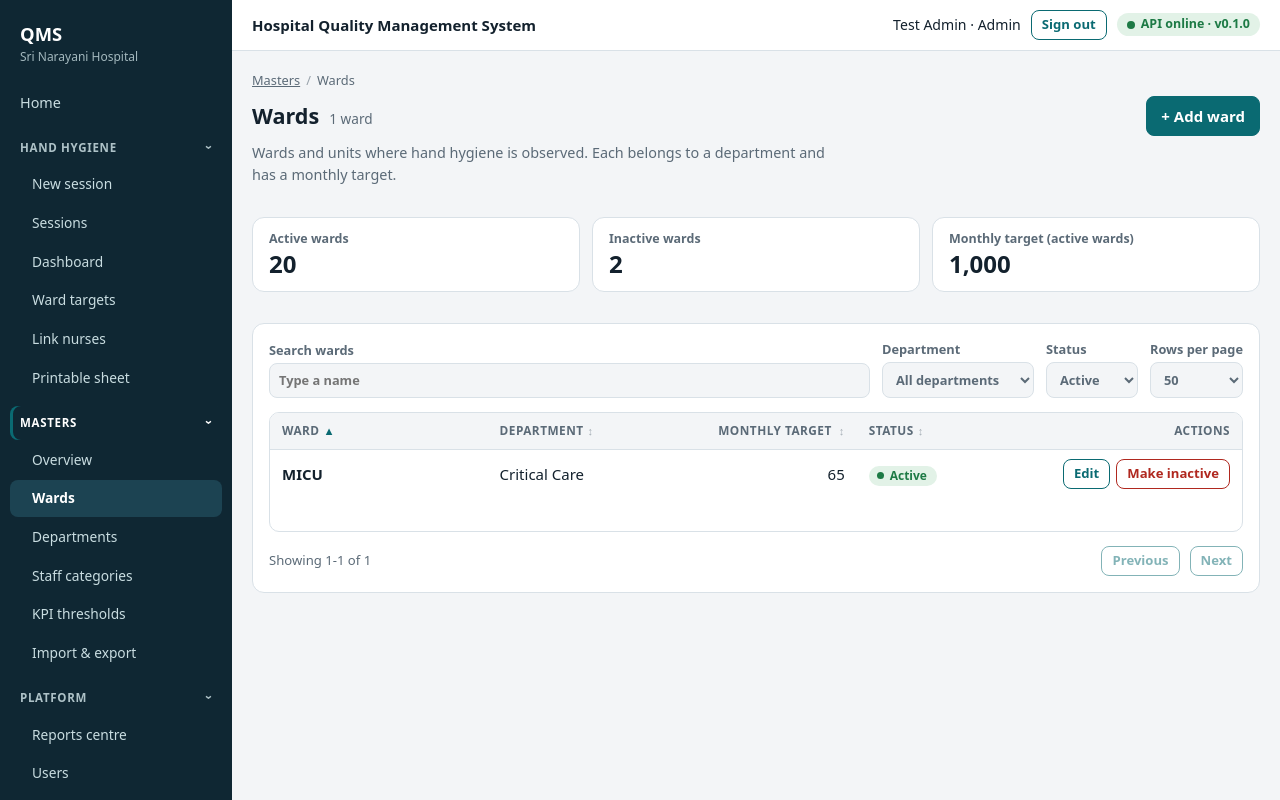
Test case: Wards page › adds a ward from the drawer with the CSRF header, closes it and shows a toast
Expected: the text "MICU" is shown, [282, 464, 323, 484]
Click the button "+ Add ward".
click(1203, 116)  # box [1146, 96, 1260, 136]
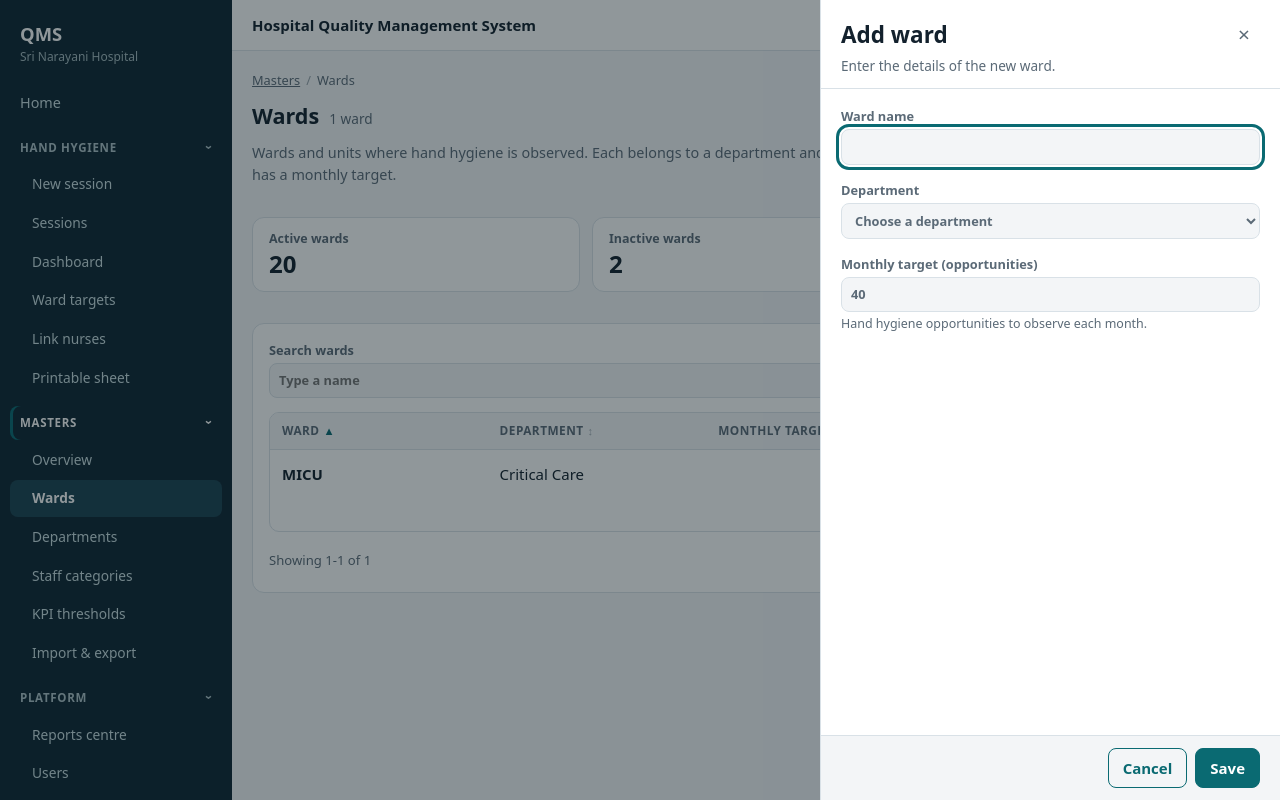
Type "ICU 2" into the field labelled "Ward name".
click(1050, 147); type("ICU 2")  # box [841, 129, 1260, 164]
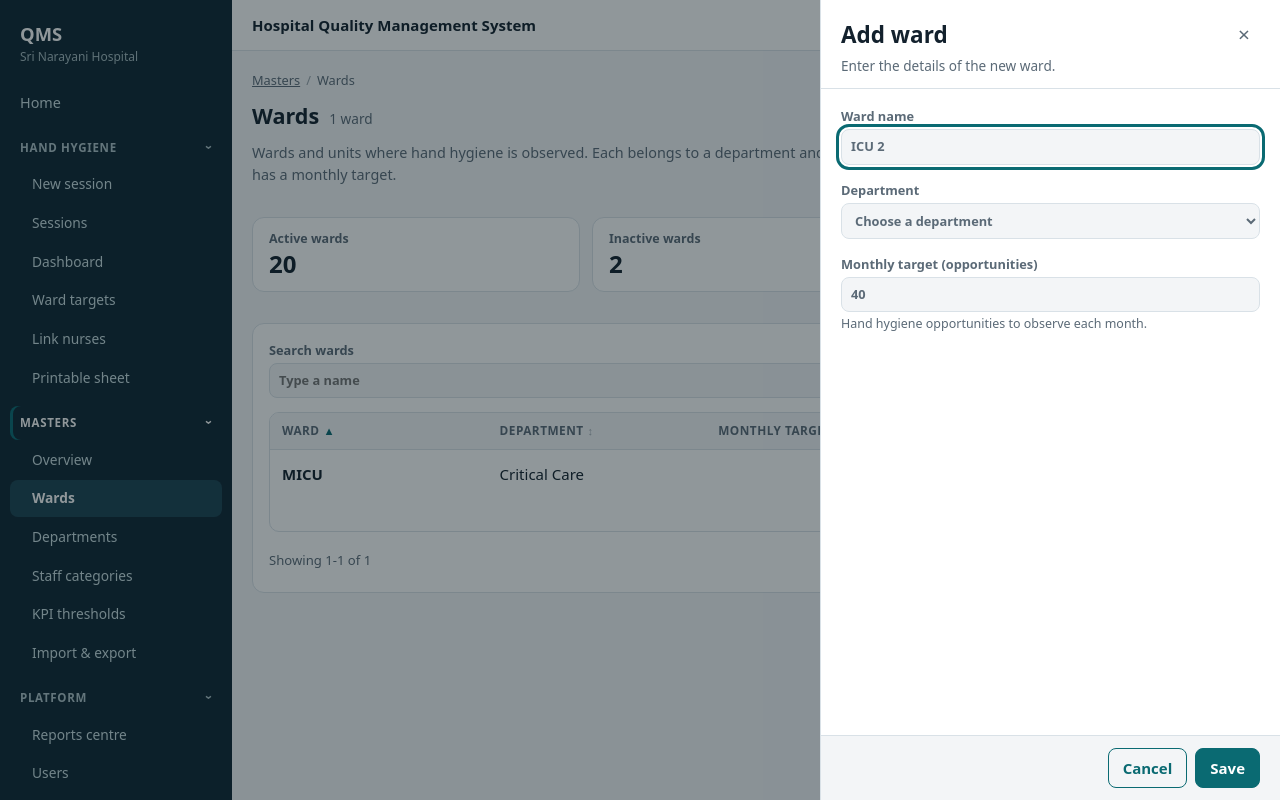
Select "Critical Care" in the dropdown labelled "Department" at coordinates (1050, 221), box [841, 203, 1260, 239]
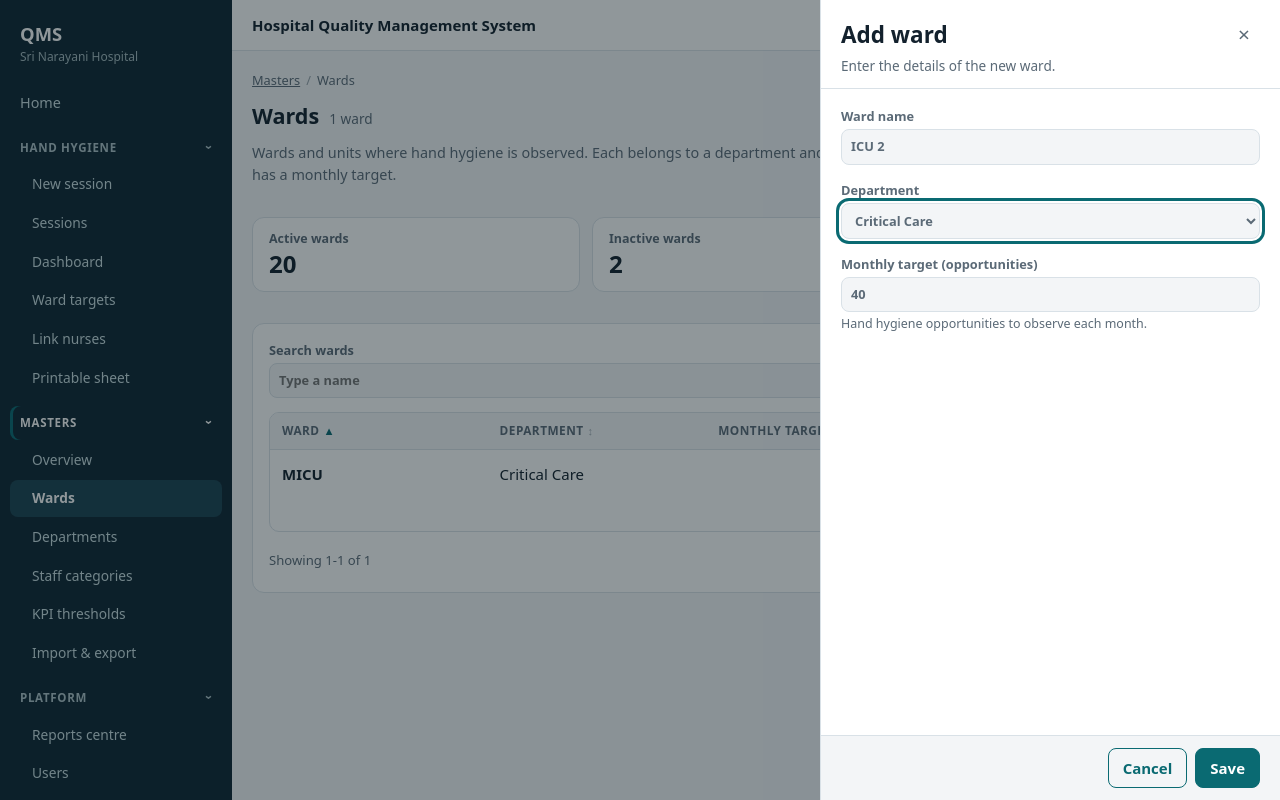
Replace the text in the number field labelled "Monthly target" with "55" at coordinates (1050, 294), box [841, 277, 1260, 312]
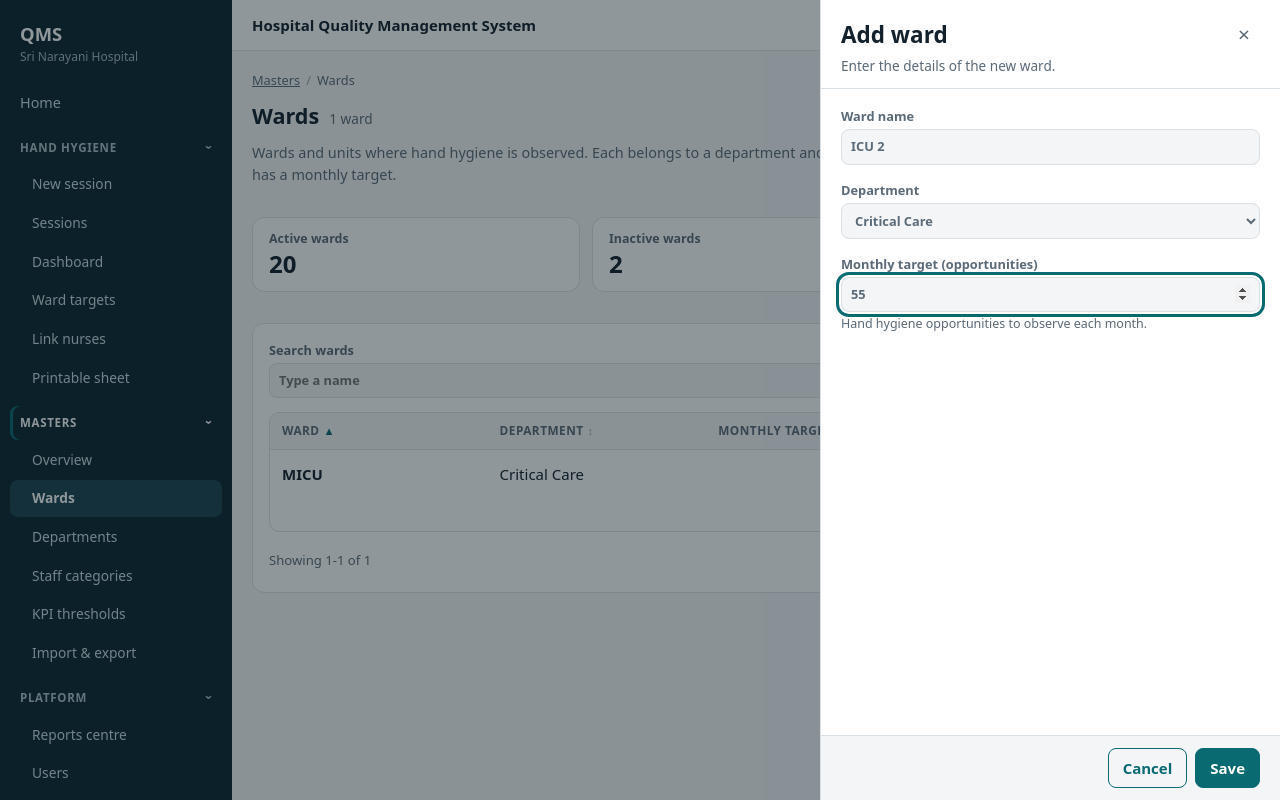
Click the button "Save".
click(1228, 768)  # box [1195, 748, 1260, 788]
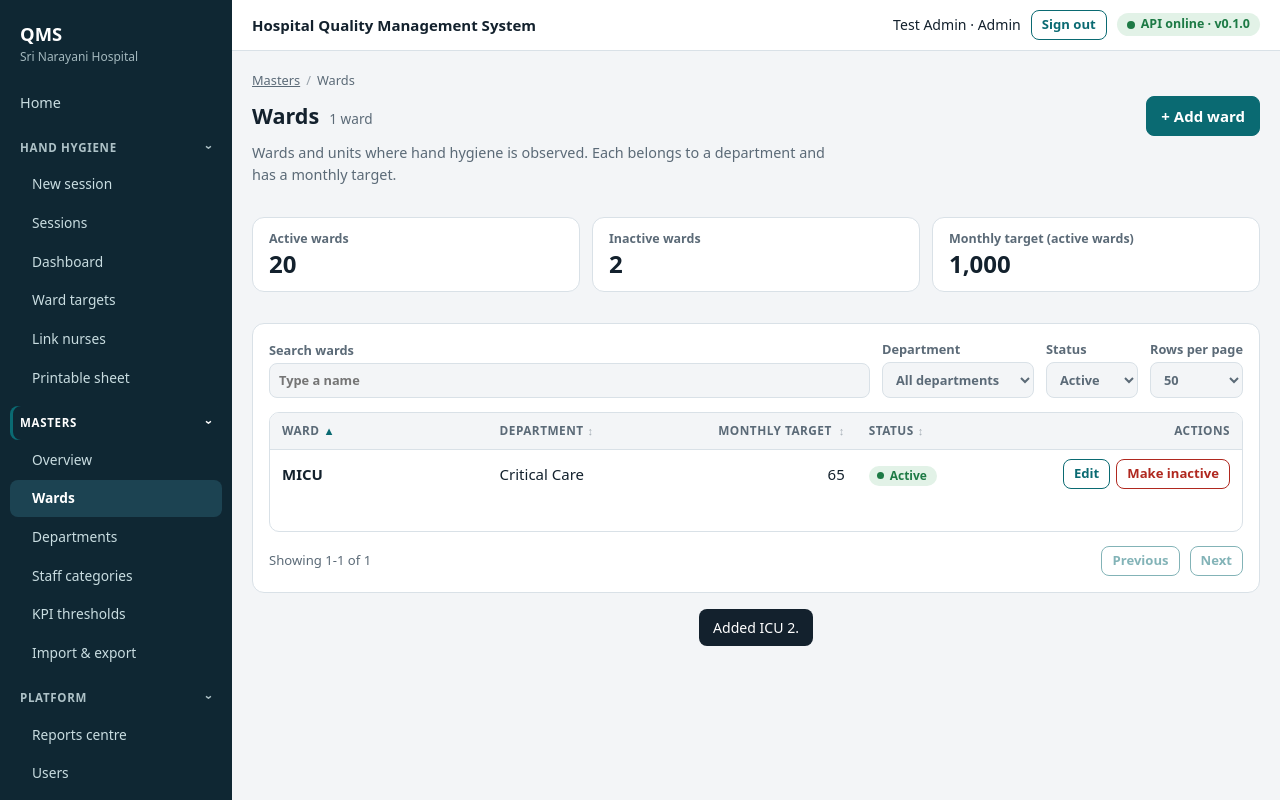
Now the text "Added ICU 2." is shown, box [699, 609, 813, 646]
Now the dialog is gone
